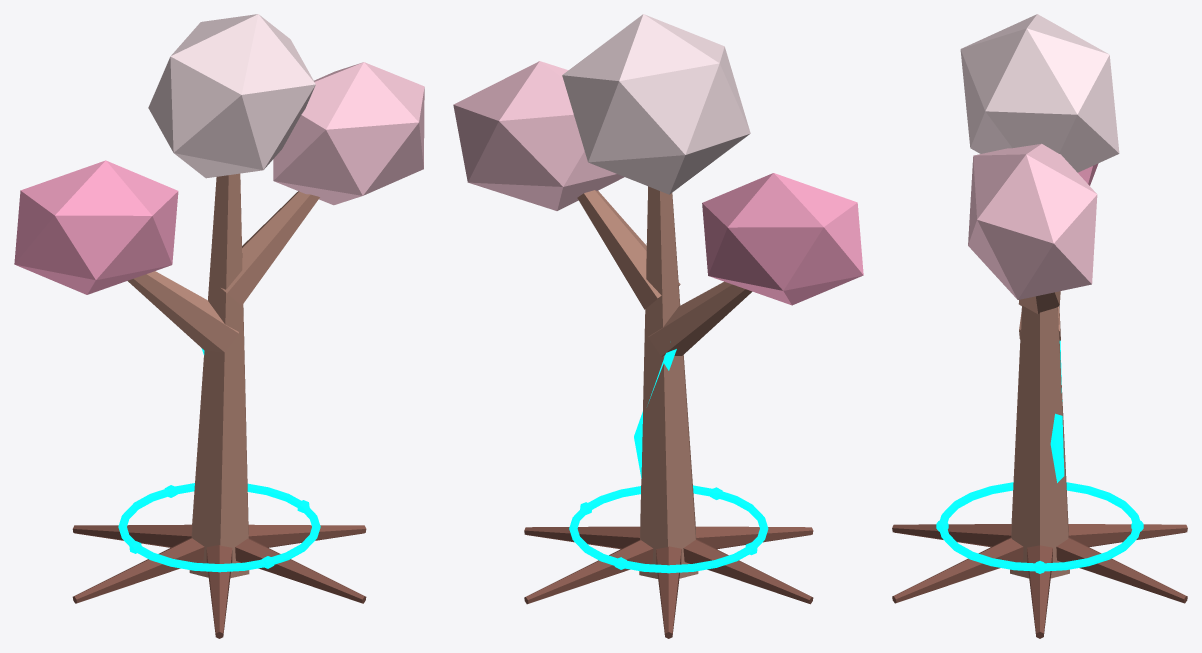
The model's file is seedling.glb.
The picture shows the model from 3 angles, left to right: view 1: azimuth 30°, elevation 25°; view 2: azimuth 150°, elevation 25°; view 3: azimuth 270°, elevation 25°; orthographic projection. The views are drawn at different scales.
Parts seen in each view (by area): view 1: Blossom_Cloud_03, Blossom_Cloud_01, Blossom_Cloud_02, Young_Trunk, Branch_01, Branch_02, Chrono_Energy_Ring, Root_04, Root_06, Root_03, Root_01, Root_05; view 2: Blossom_Cloud_03, Blossom_Cloud_01, Blossom_Cloud_02, Young_Trunk, Branch_02, Branch_01, Chrono_Energy_Ring, Root_04, Root_02, Root_05, Root_01, Root_03; view 3: Blossom_Cloud_03, Blossom_Cloud_02, Young_Trunk, Chrono_Energy_Ring, Root_02, Root_06, Root_03, Root_05, Root_01, Root_Energy, Branch_02.
Boxes of the visible parts, left/top/right/bottom form: Blossom_Cloud_03: left=148, top=14, right=315, bottom=178; Blossom_Cloud_01: left=14, top=160, right=178, bottom=294; Blossom_Cloud_02: left=273, top=62, right=424, bottom=205; Young_Trunk: left=189, top=173, right=249, bottom=578; Branch_01: left=128, top=271, right=238, bottom=352; Branch_02: left=221, top=191, right=319, bottom=305; Chrono_Energy_Ring: left=118, top=483, right=320, bottom=572; Root_04: left=72, top=537, right=204, bottom=603; Root_06: left=235, top=538, right=366, bottom=603; Root_03: left=72, top=524, right=191, bottom=547; Root_01: left=248, top=524, right=366, bottom=547; Root_05: left=206, top=545, right=232, bottom=638; Blossom_Cloud_03: left=562, top=14, right=750, bottom=194; Blossom_Cloud_01: left=702, top=173, right=863, bottom=305; Blossom_Cloud_02: left=453, top=61, right=624, bottom=210; Young_Trunk: left=639, top=186, right=698, bottom=578; Branch_02: left=577, top=190, right=680, bottom=309; Branch_01: left=648, top=281, right=752, bottom=356; Chrono_Energy_Ring: left=569, top=485, right=768, bottom=573; Root_04: left=683, top=539, right=813, bottom=604; Root_02: left=524, top=540, right=653, bottom=604; Root_05: left=696, top=526, right=813, bottom=549; Root_01: left=524, top=526, right=640, bottom=549; Root_03: left=656, top=546, right=681, bottom=638; Blossom_Cloud_03: left=960, top=14, right=1119, bottom=172; Blossom_Cloud_02: left=968, top=143, right=1097, bottom=299; Young_Trunk: left=1010, top=305, right=1069, bottom=578; Chrono_Energy_Ring: left=938, top=482, right=1141, bottom=571; Root_02: left=1056, top=537, right=1187, bottom=603; Root_06: left=892, top=537, right=1023, bottom=603; Root_03: left=1068, top=524, right=1187, bottom=547; Root_05: left=892, top=524, right=1011, bottom=547; Root_01: left=1027, top=545, right=1052, bottom=638; Root_Energy: left=1050, top=340, right=1064, bottom=482; Branch_02: left=1018, top=291, right=1060, bottom=314.
Size of the model in its own units: 1.32 by 1.68 by 0.8088.
